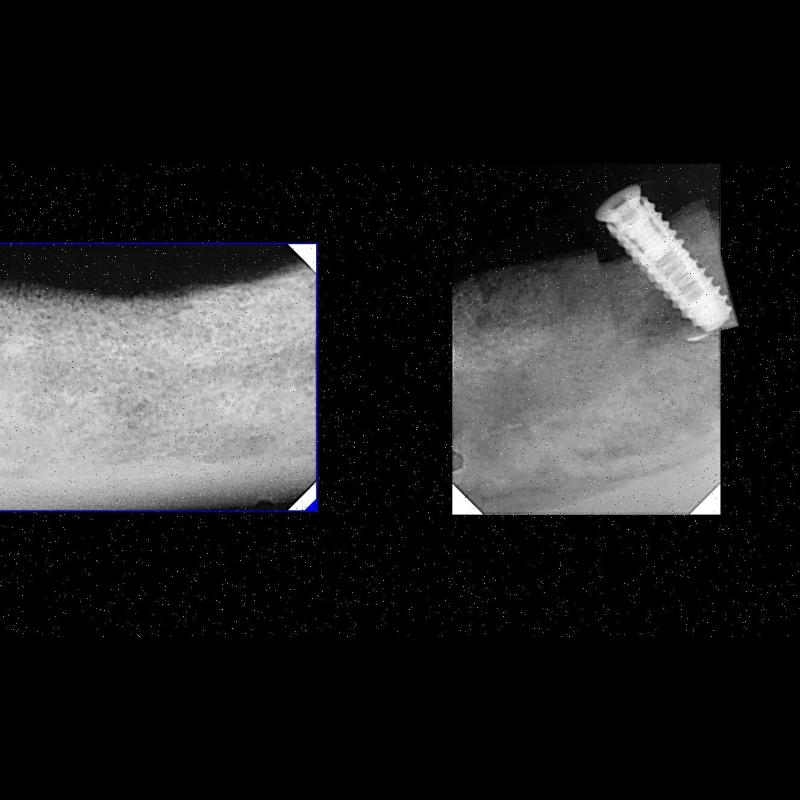osstem: (591, 173, 729, 349)
